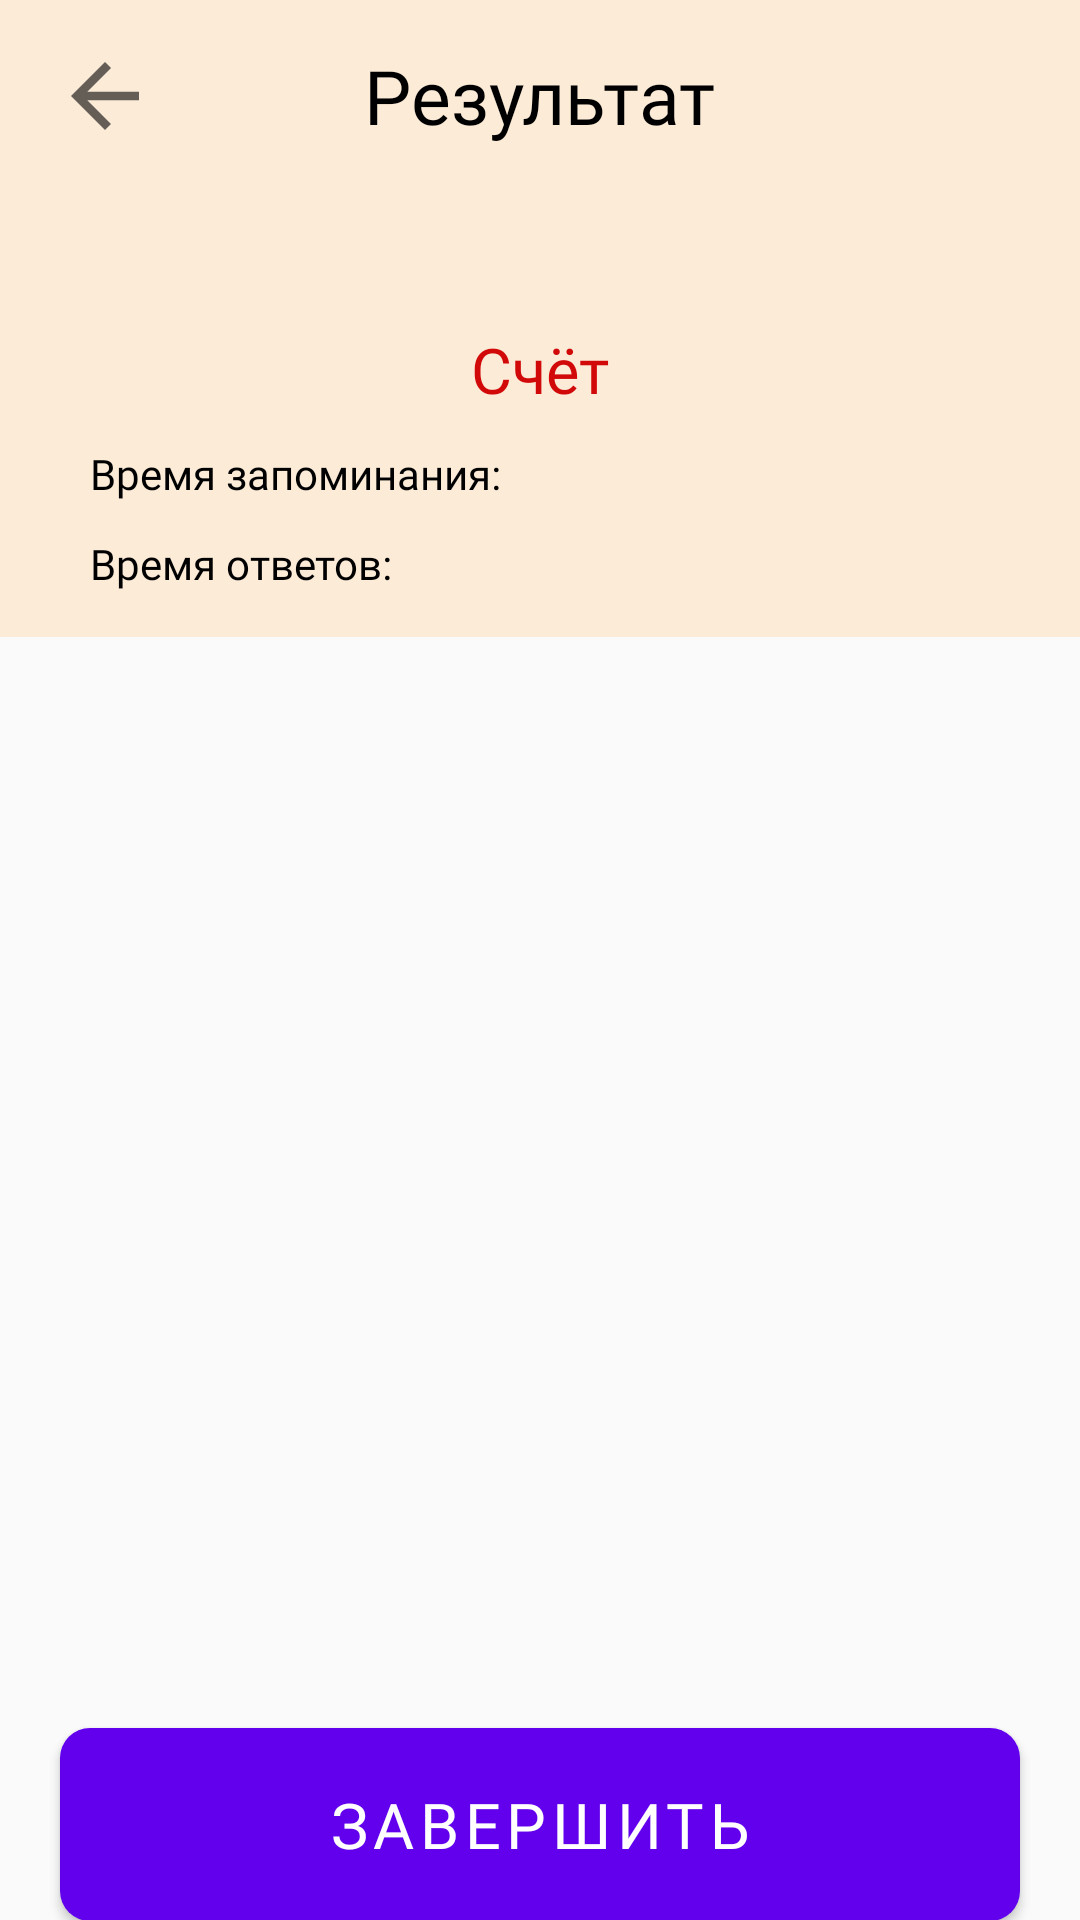

Icons on this 1080 x 1920 Android screen, each with the point to tap as (x,y):
arrow back: (105,96)
